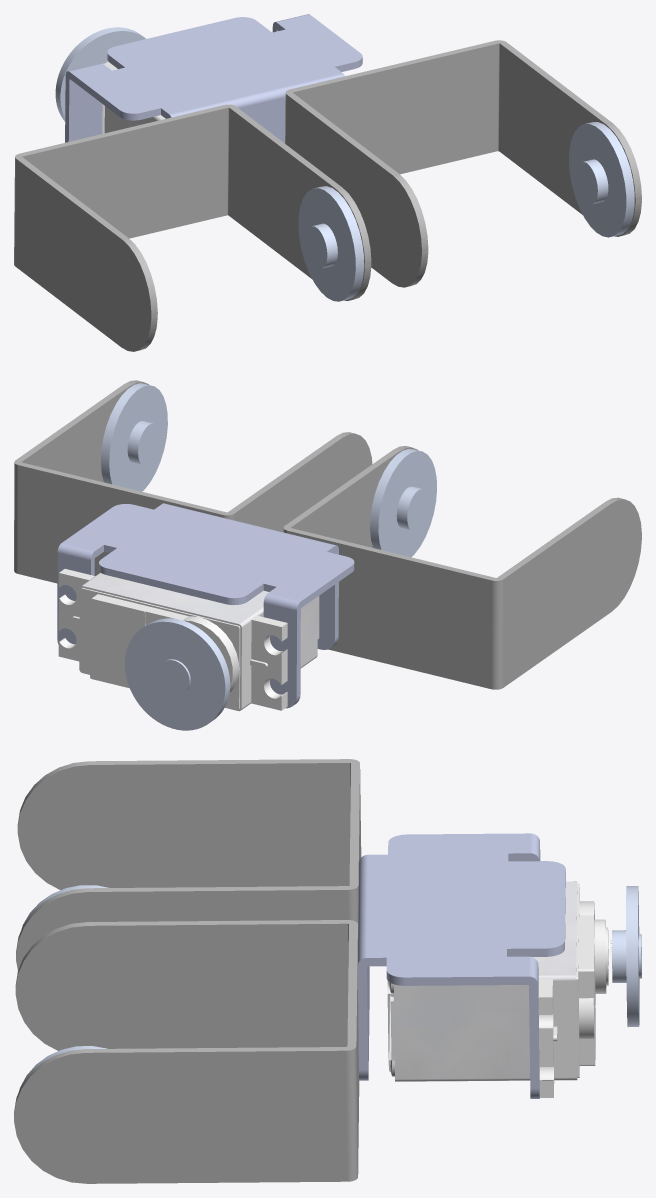
The model's file is r_upperarm_link.dae.
3 renders of one model, top to bottom at view 1: azimuth 30°, elevation 25°; view 2: azimuth 150°, elevation 25°; view 3: azimuth 270°, elevation 25°, orthographic. The views are drawn at different scales.
Visible parts, largest first — view 1: Actor0; view 2: Actor0; view 3: Actor0.
Boxes of the visible parts, x1,y1,x2,y2 form: Actor0: [14, 14, 641, 351]; Actor0: [14, 380, 641, 730]; Actor0: [14, 759, 641, 1183].
Size of the model in its own units: 0.1169 by 0.0261 by 0.1068.
7 materials, 2 textured.
